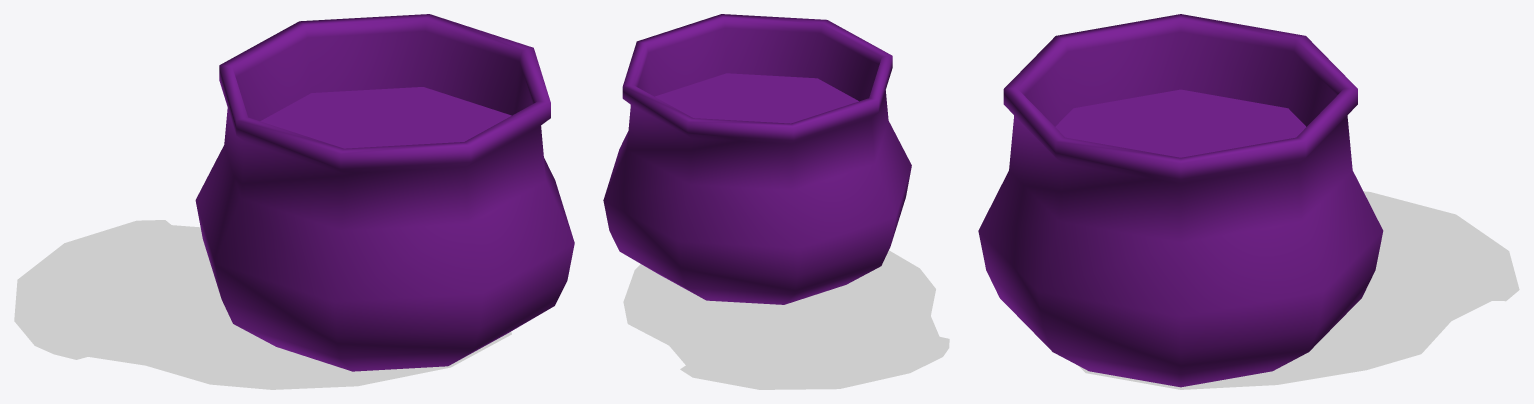
The model's file is cauldron.fbx.
3 views of the same model, side by side, from view 1: azimuth 30°, elevation 25°; view 2: azimuth 150°, elevation 25°; view 3: azimuth 270°, elevation 25° (orthographic). The views are drawn at different scales.
Parts seen in each view (by area): view 1: VillagerCauldron, VillagerCauldron-shadow; view 2: VillagerCauldron, VillagerCauldron-shadow; view 3: VillagerCauldron, VillagerCauldron-shadow.
Boxes of the visible parts, x1=… form: VillagerCauldron: x1=195, y1=14, x2=574, y2=371; VillagerCauldron-shadow: x1=14, y1=220, x2=511, y2=389; VillagerCauldron: x1=603, y1=14, x2=911, y2=304; VillagerCauldron-shadow: x1=623, y1=250, x2=949, y2=389; VillagerCauldron: x1=978, y1=14, x2=1383, y2=387; VillagerCauldron-shadow: x1=1079, y1=191, x2=1519, y2=389.
Size of the model in its own units: 73.91 by 36.33 by 73.15.
